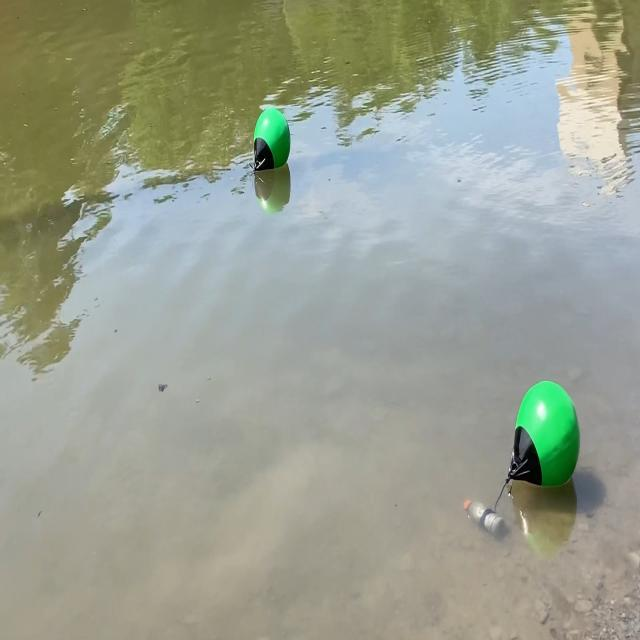buoy: (504, 374, 582, 492), (250, 105, 292, 173)
